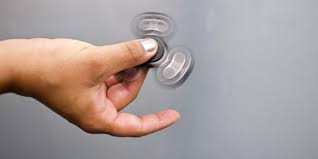fidget_spinner: (107, 7, 194, 87)
